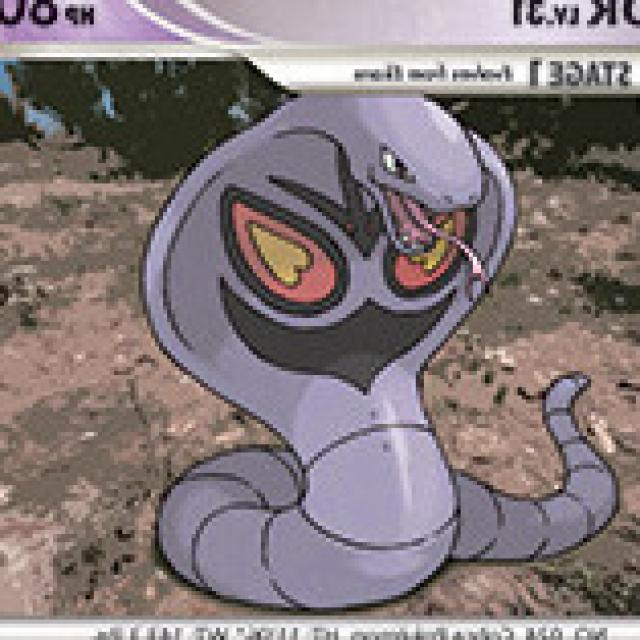Arbok: (154, 90, 519, 603)
